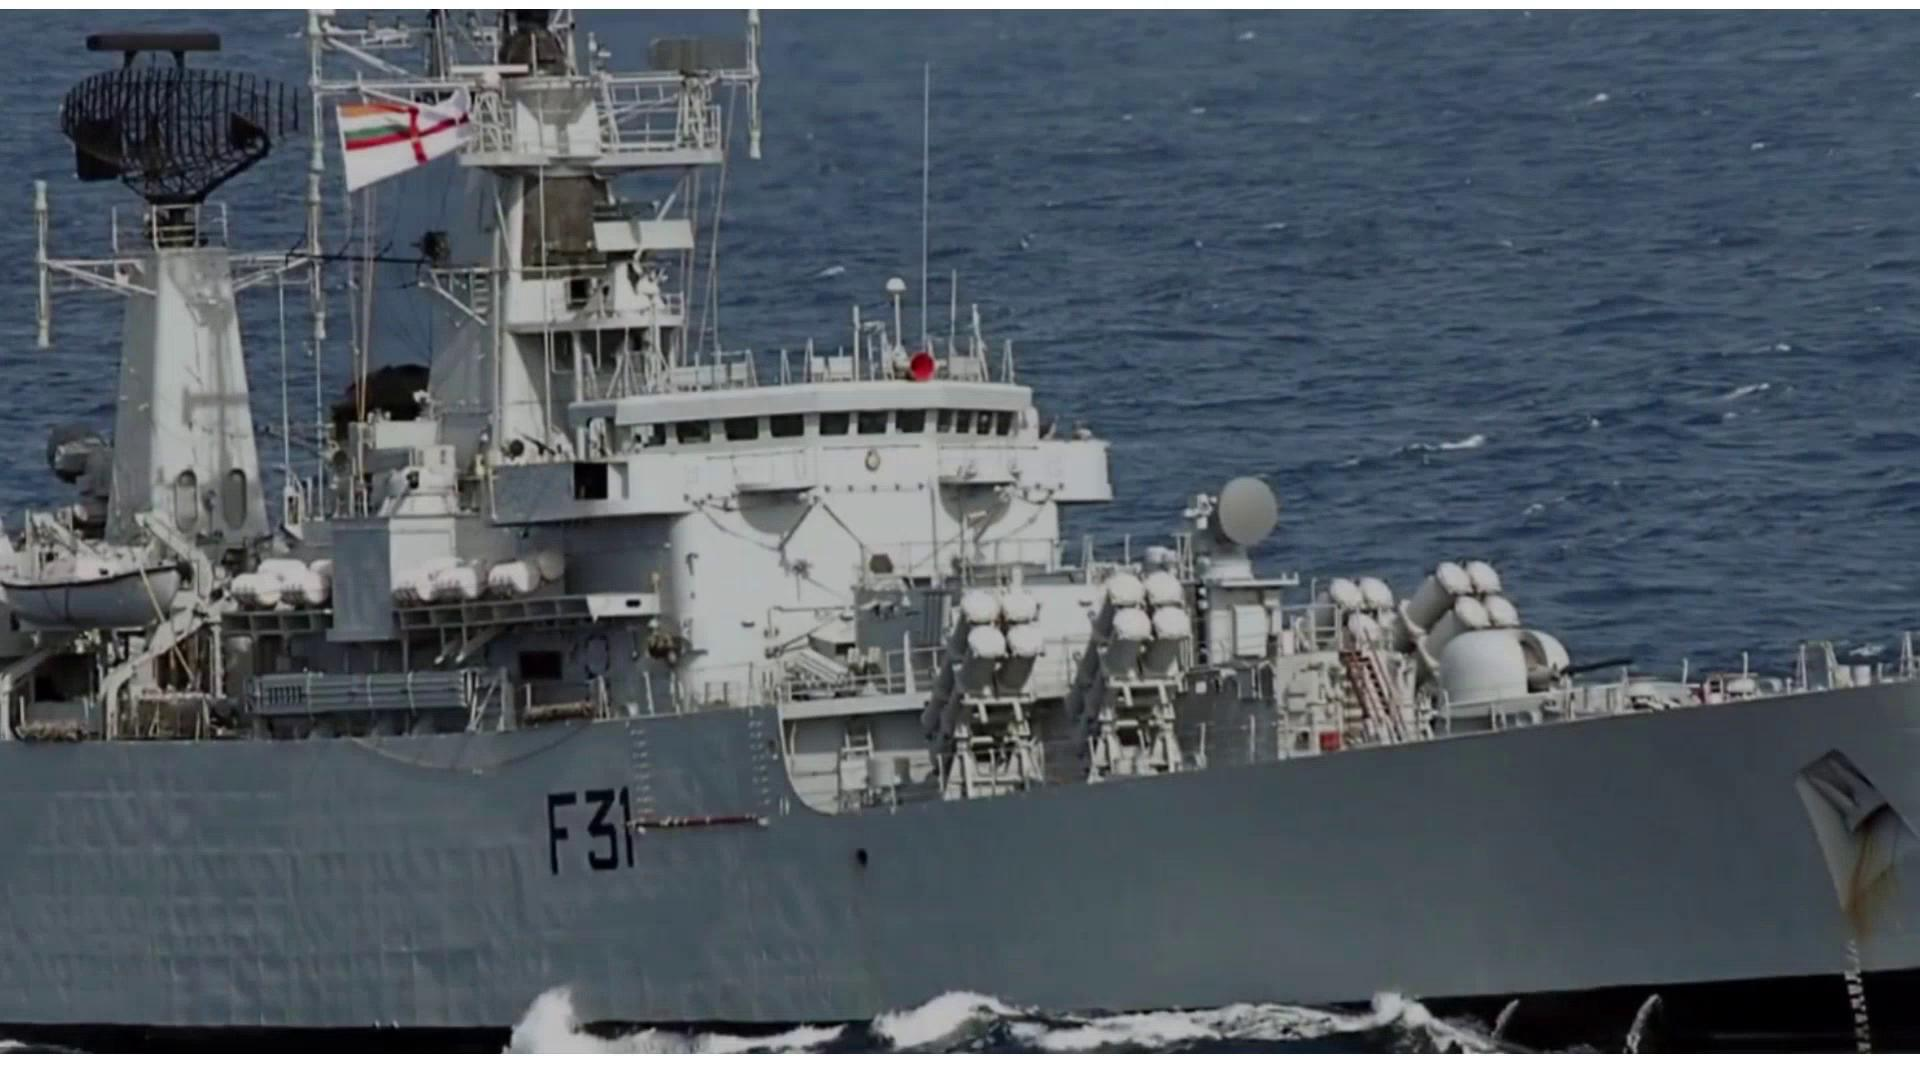OCR: (539, 782, 637, 881)
